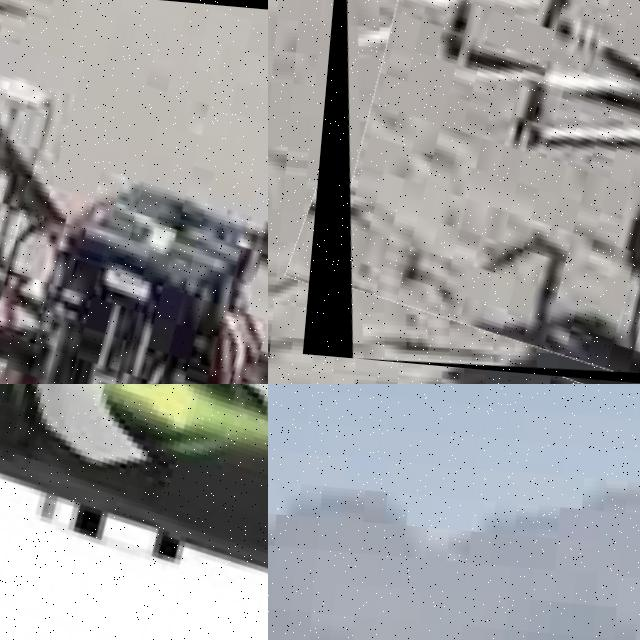0: (302, 0, 640, 384), (0, 0, 268, 384)
drone: (0, 384, 268, 640)
